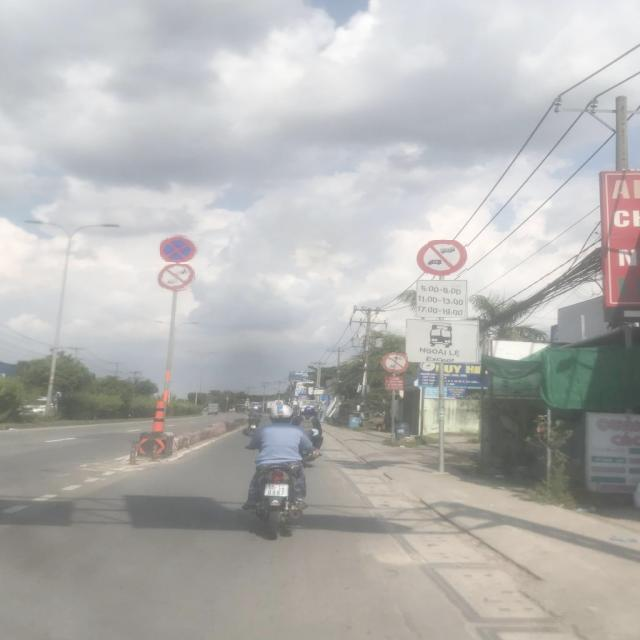107-cam-oto-khach-va-oto-tai: (417, 238, 468, 276)
130-cam-dung-va-do-xe: (158, 236, 198, 264)
